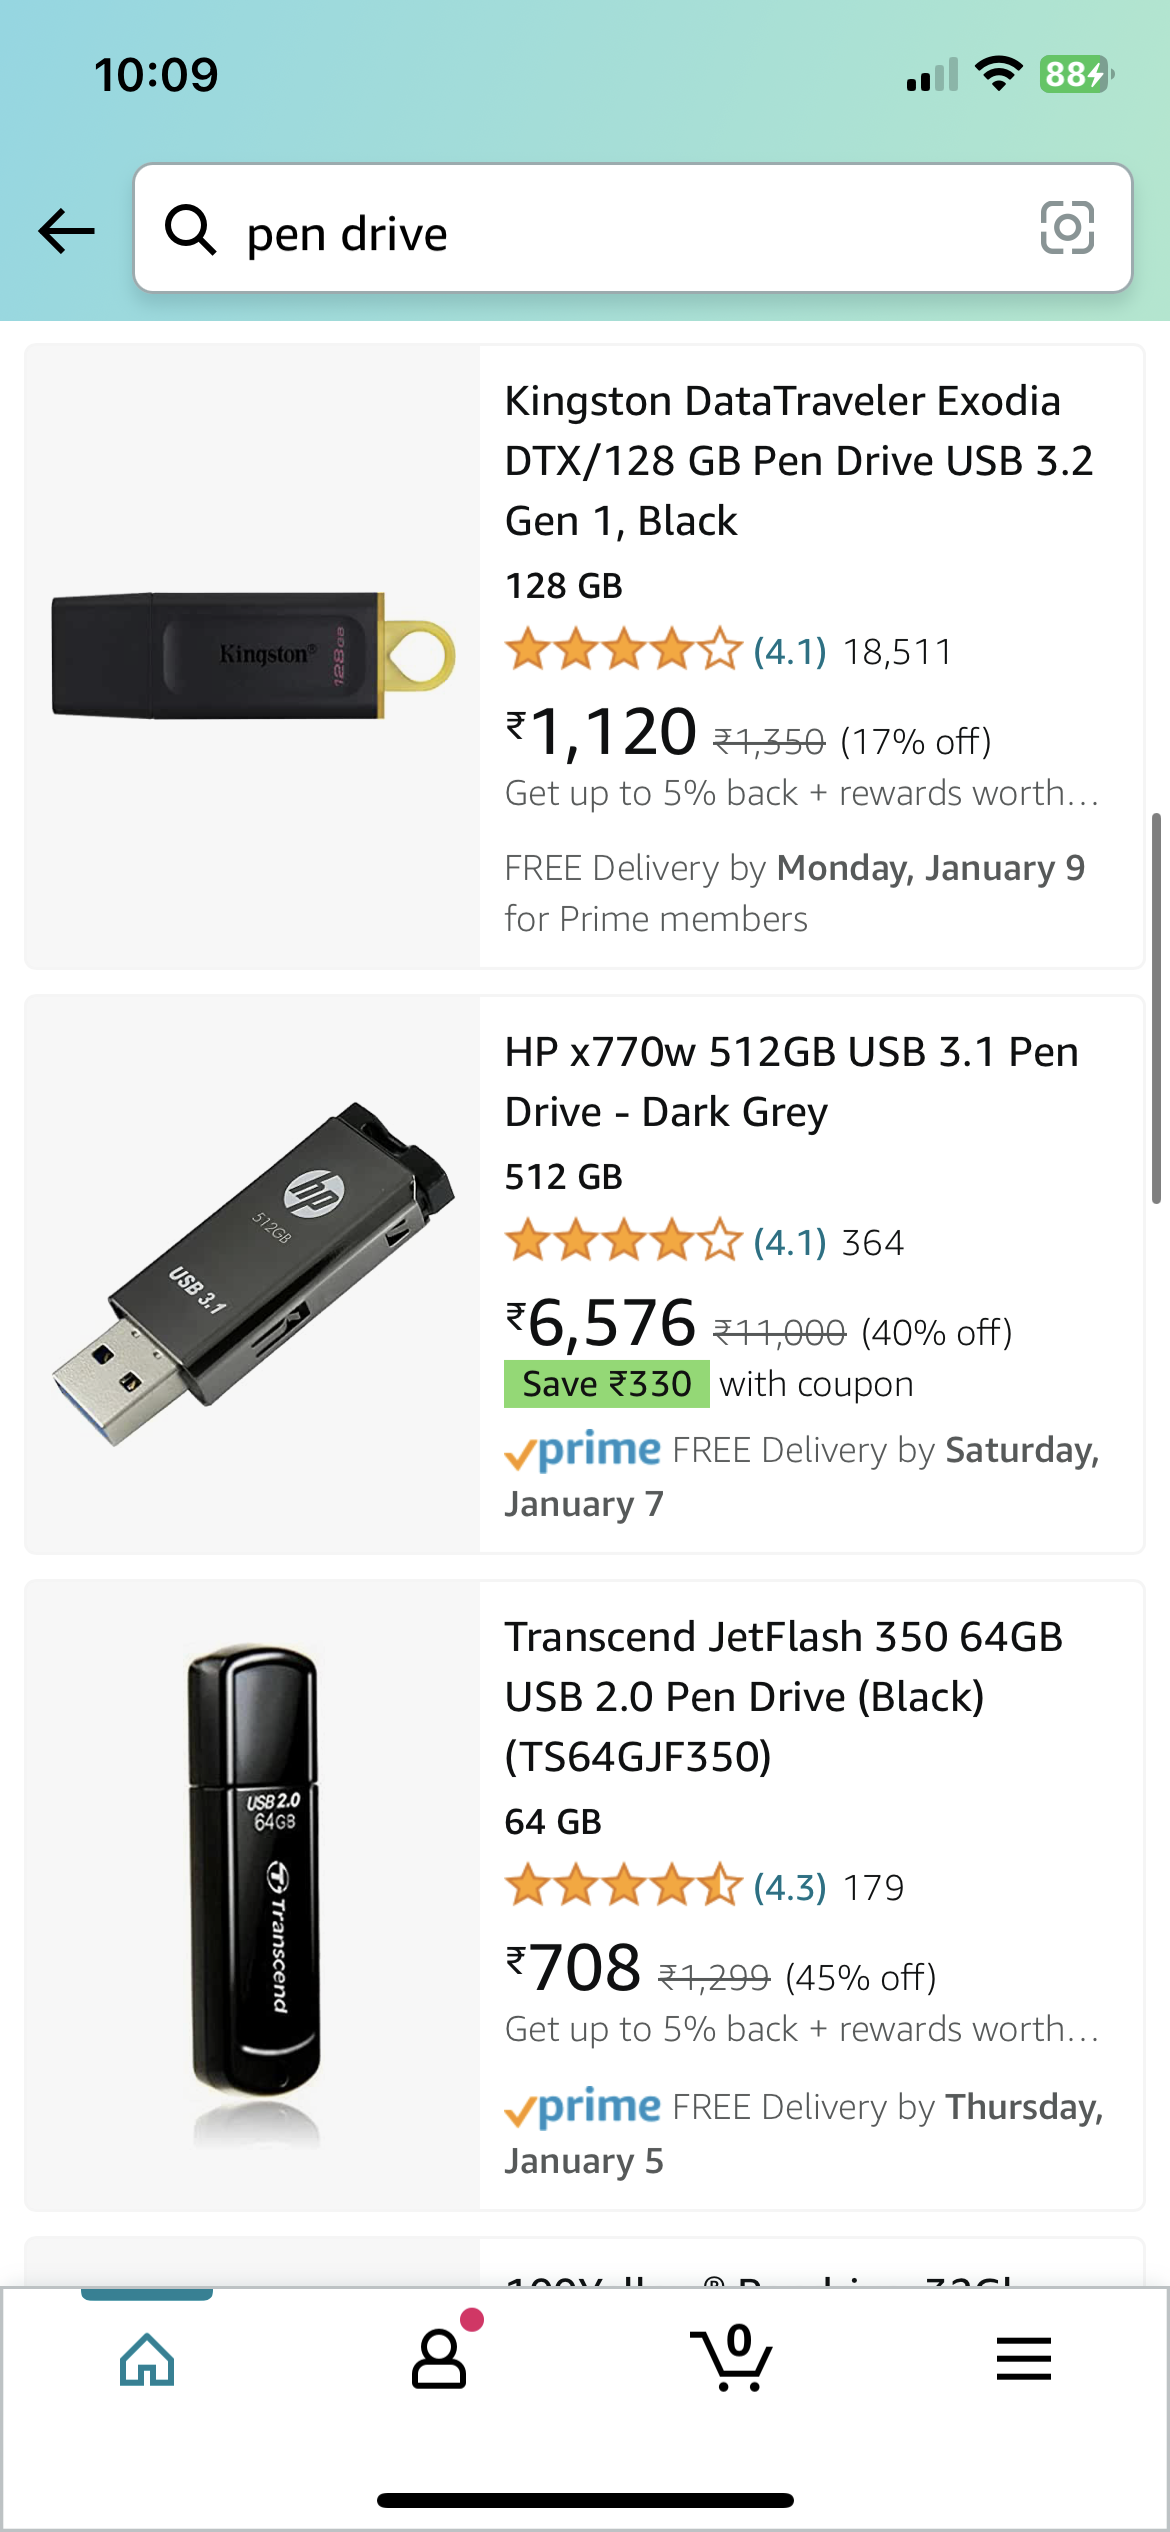PenDrive: (52, 1096, 462, 1440), (181, 1641, 336, 2102), (47, 585, 450, 744)
